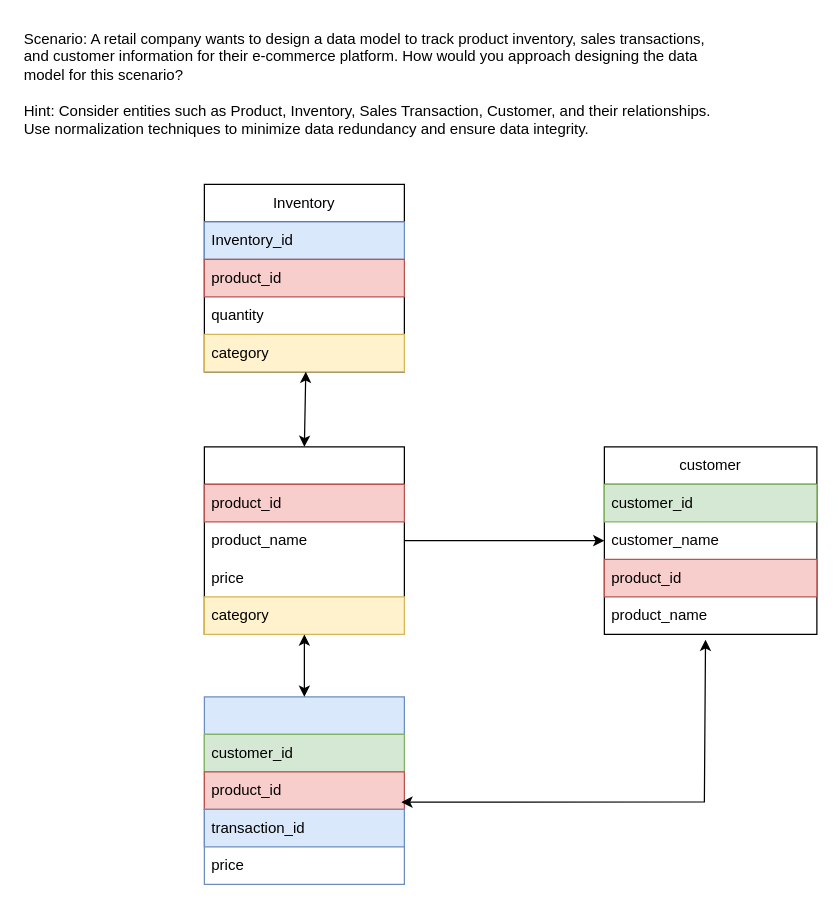
The diagram is 839 pixels wide and 906 high, and some of its shapes have lost their labels. Each missing label, with the box of its shape:
Products: (203, 446, 404, 634)
sales: (203, 696, 404, 884)
